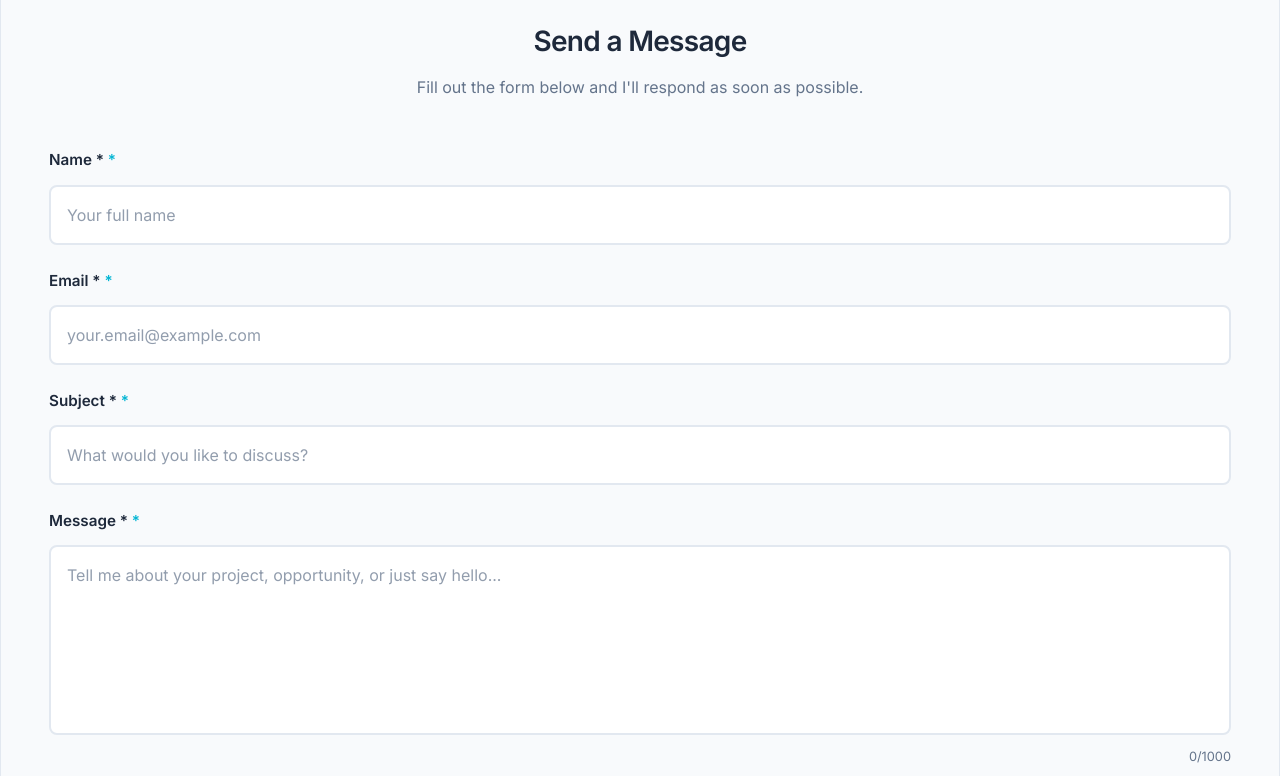
ContactForm › Form Submission › should show error message on failed submission
Type "John Doe" into the field labelled "Name *" at (640, 214), box x1=49 y1=184 x2=1231 y2=244
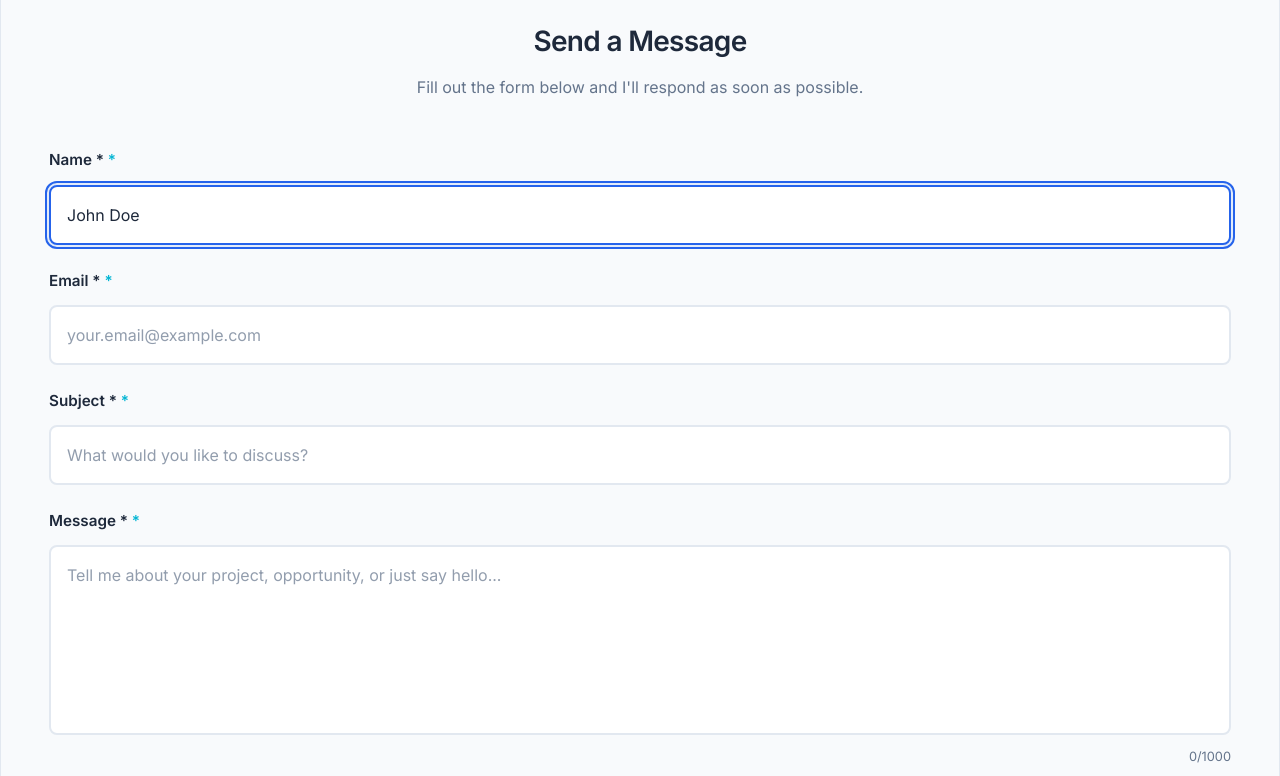
Type "john@example.com" into the field labelled "Email *" at (640, 335), box x1=49 y1=305 x2=1231 y2=365
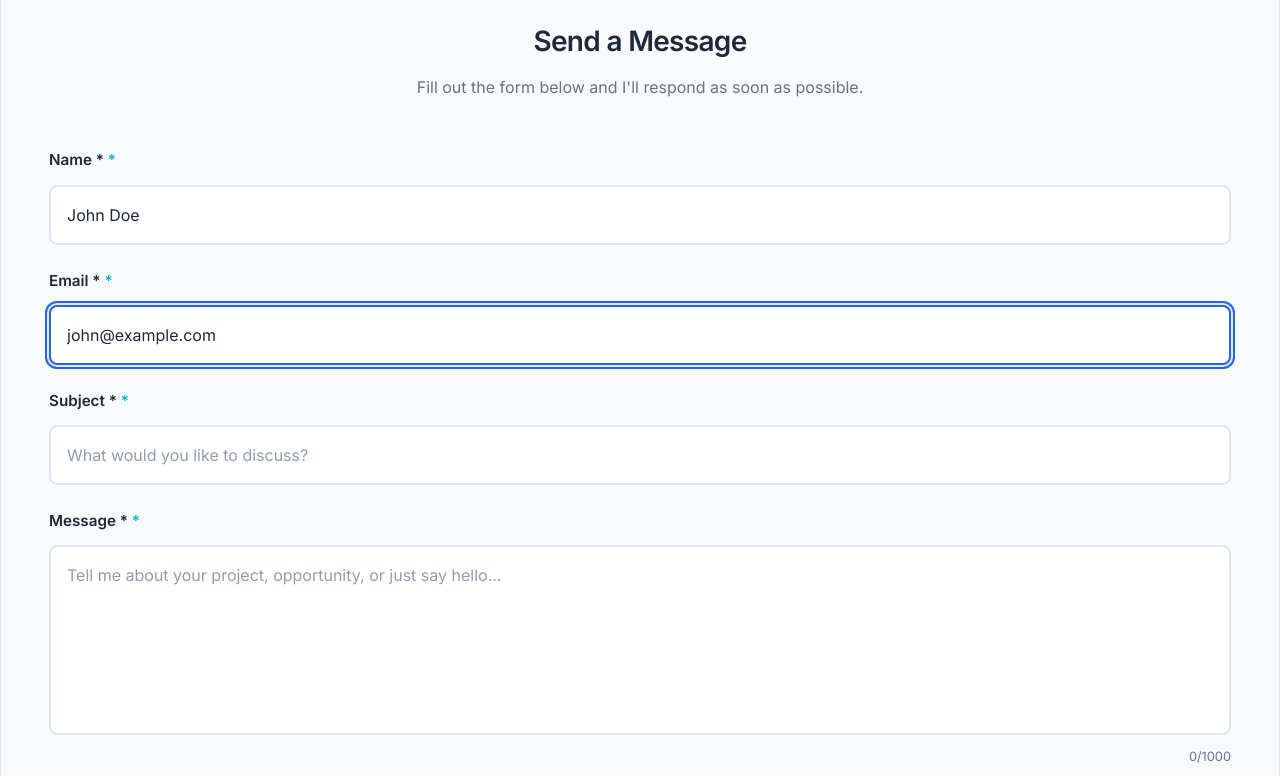
Type "Project Inquiry" into the field labelled "Subject *" at (640, 455), box x1=49 y1=425 x2=1231 y2=485
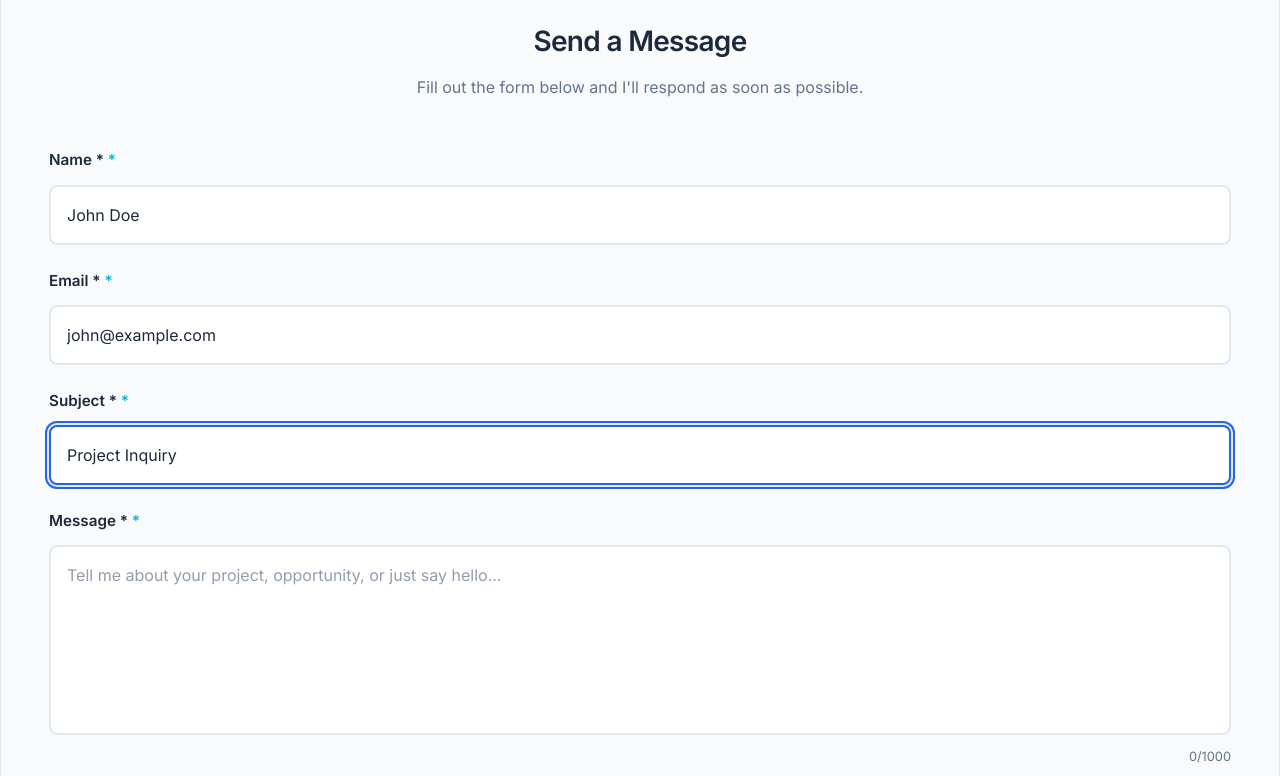
Type "I would like to discuss a project." into the text box labelled "Message *" at (640, 640), box x1=49 y1=545 x2=1231 y2=735
(page scrolled)
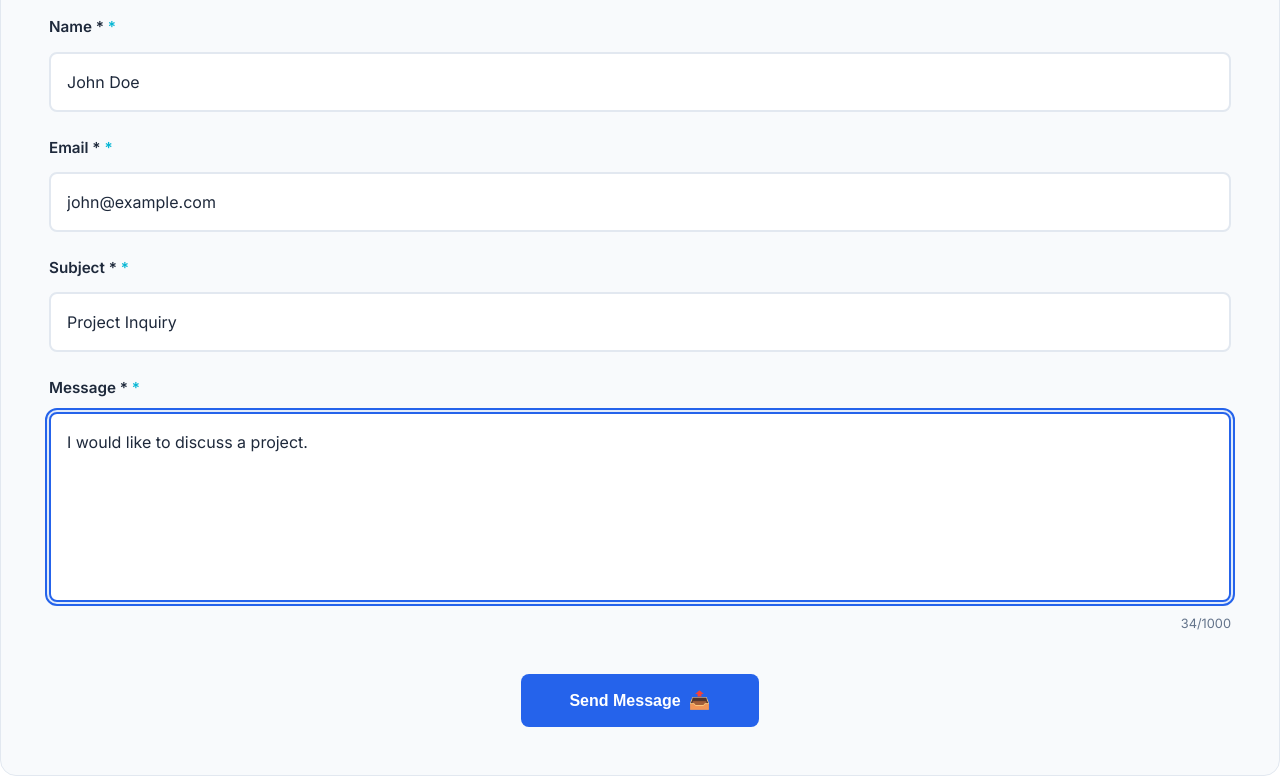
Click the button "Send Message 📤" at (640, 701), box x1=521 y1=674 x2=758 y2=728
(page scrolled)
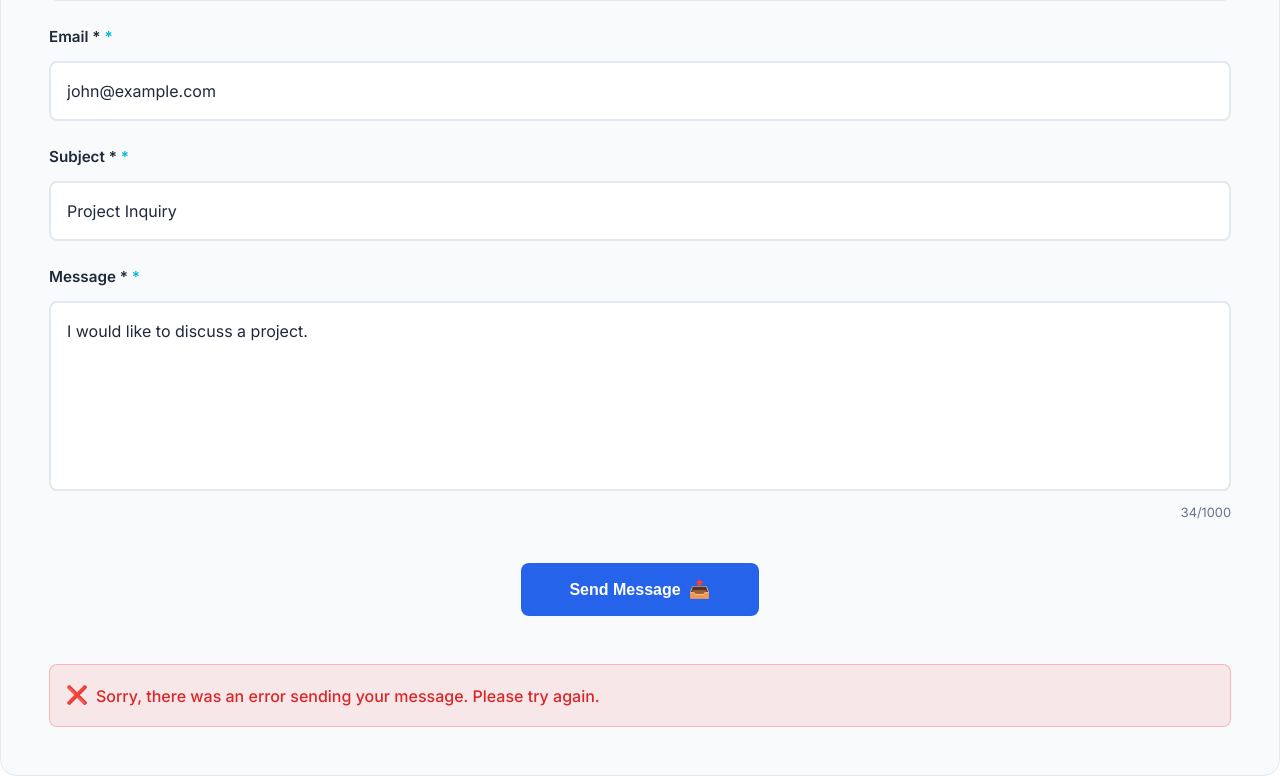
Check: the text "Sorry, there was an error" is shown, box x1=96 y1=686 x2=600 y2=706
